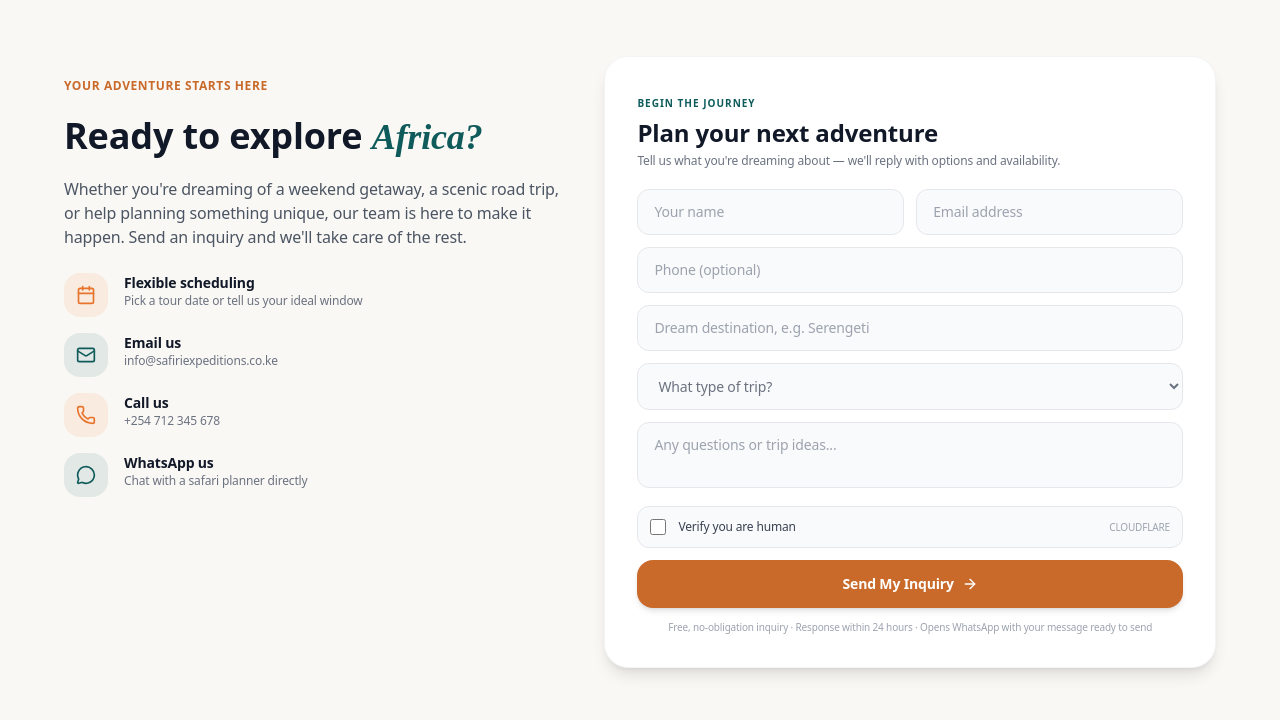
InquiryForm › shows the opening state on the submit button when sending
Type "Jane Doe" into the field with placeholder "Your name" at (771, 212), box [637, 189, 904, 235]
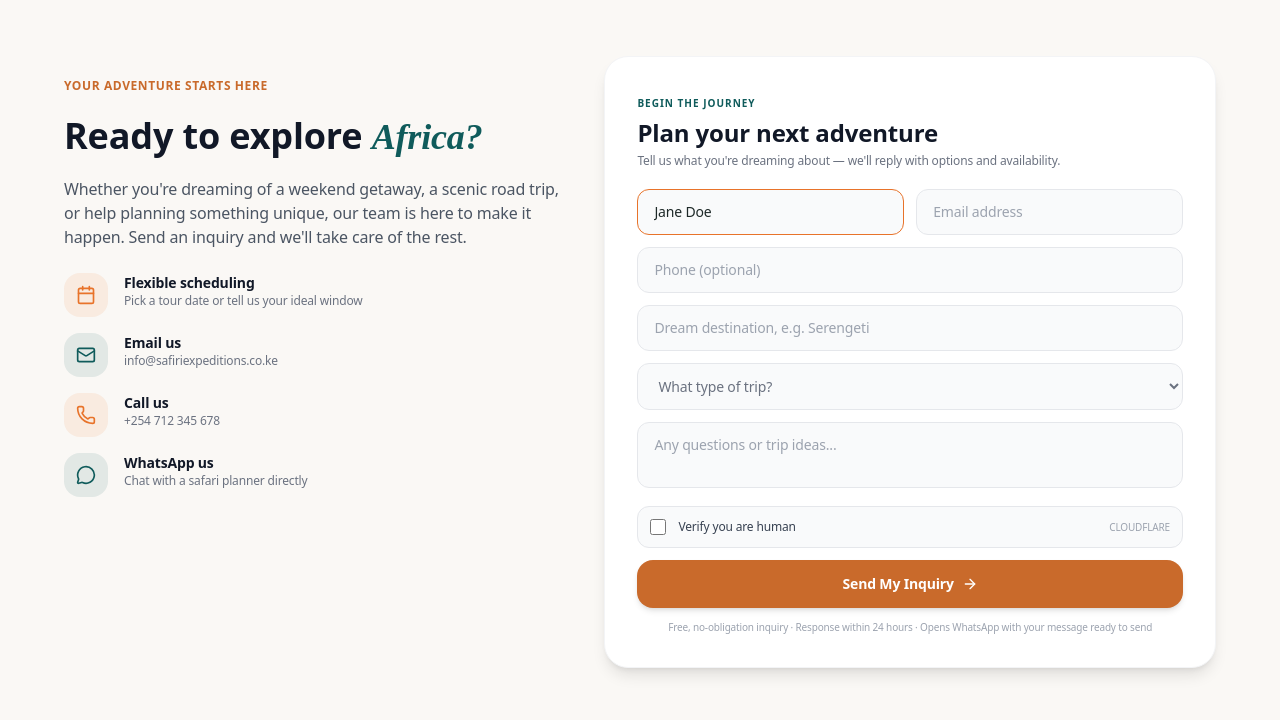
Type "jane@example.com" into the field with placeholder "Email address" at (1050, 212), box [916, 189, 1183, 235]
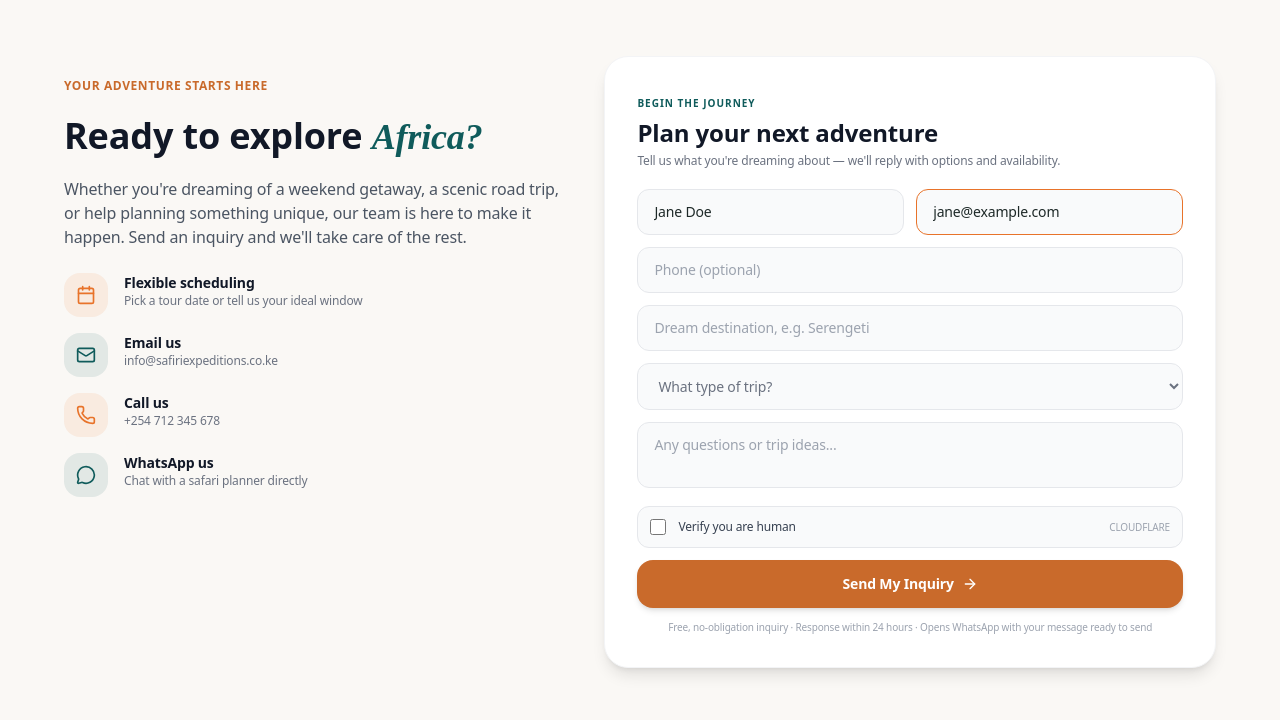
Type "Masai Mara" into the field with placeholder "Dream destination, e.g. Serengeti" at (910, 328), box [637, 305, 1183, 351]
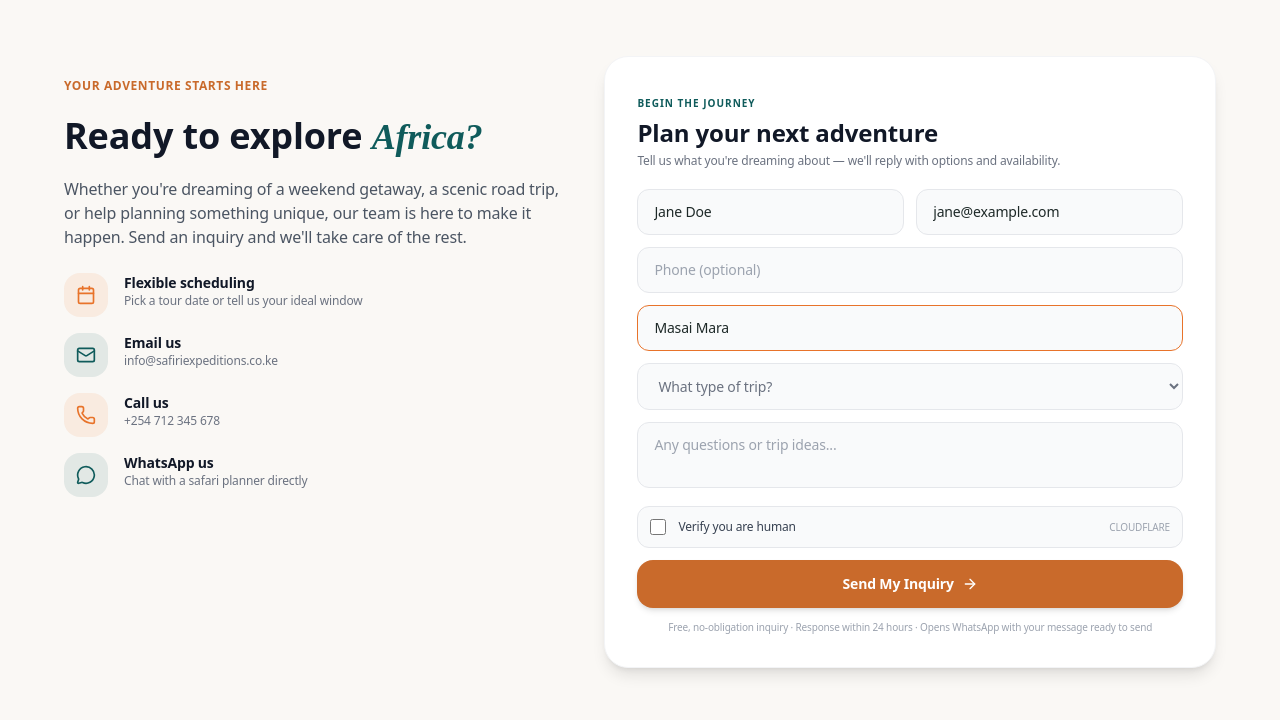
Click the checkbox at (658, 527), box [650, 519, 666, 535]
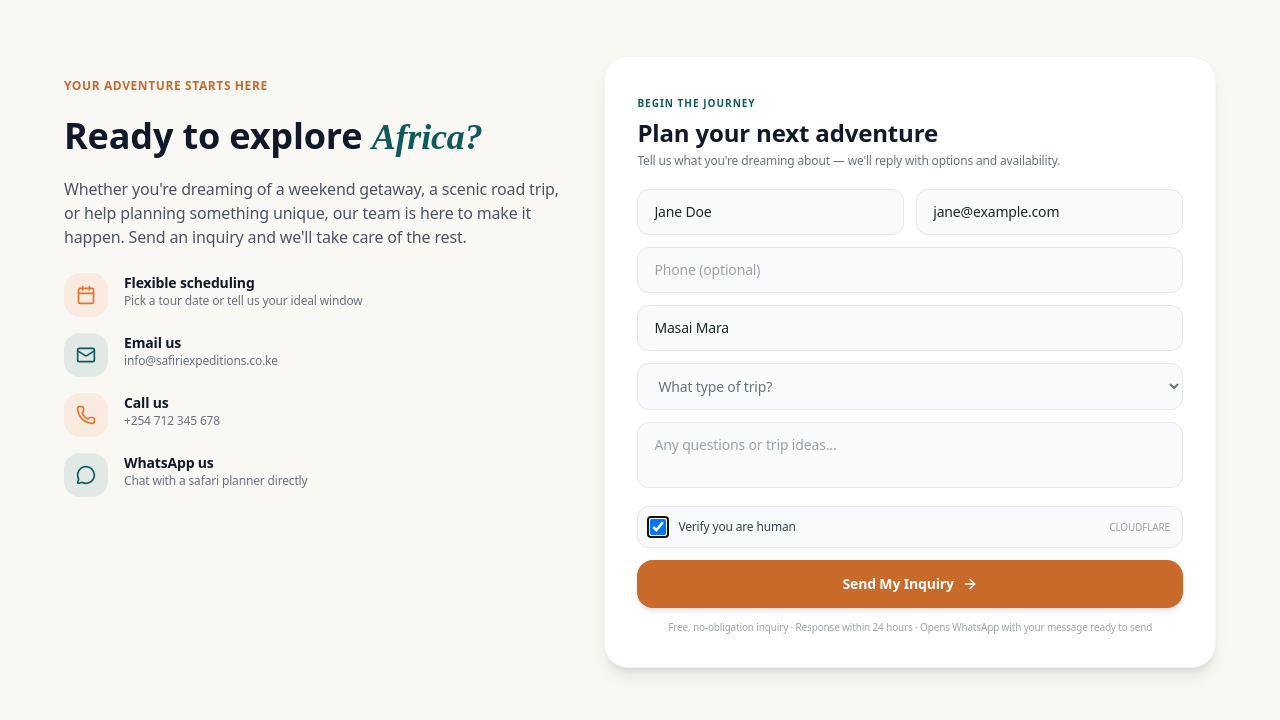
Click the button "Send My Inquiry" at (910, 584), box [637, 560, 1183, 608]
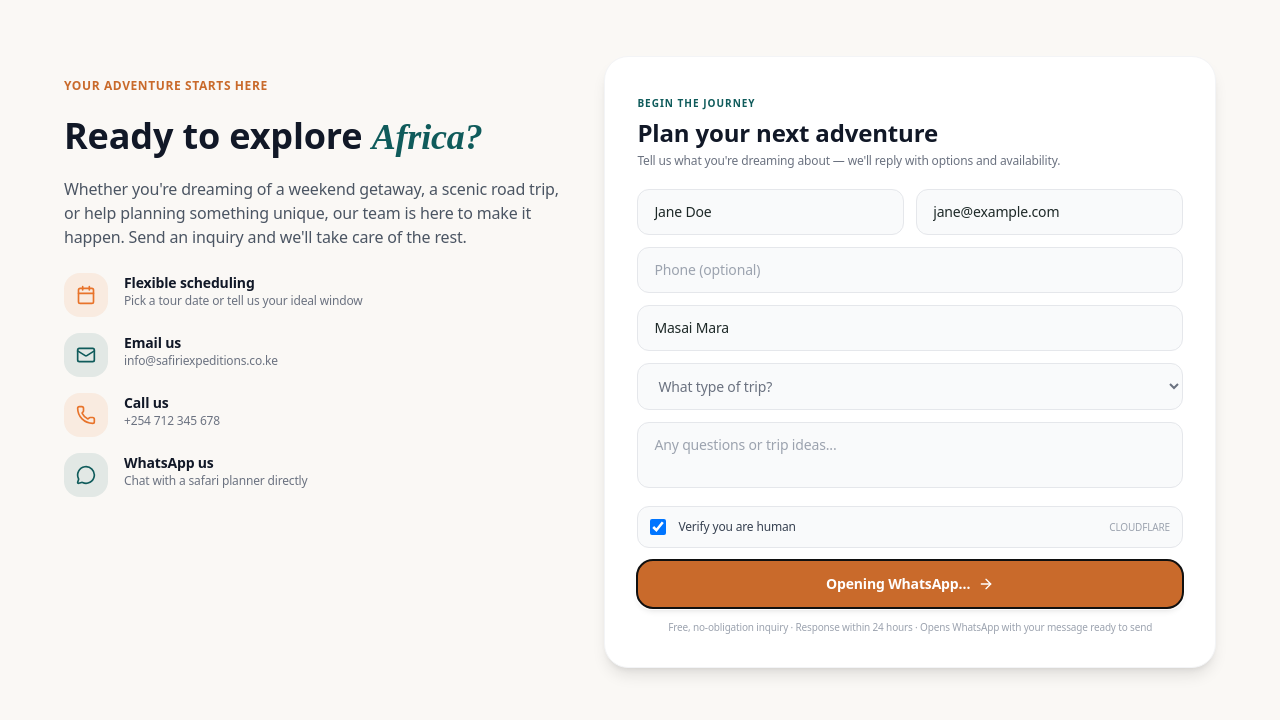
Expected: the button "Opening WhatsApp…" is shown, [637, 560, 1183, 608]
